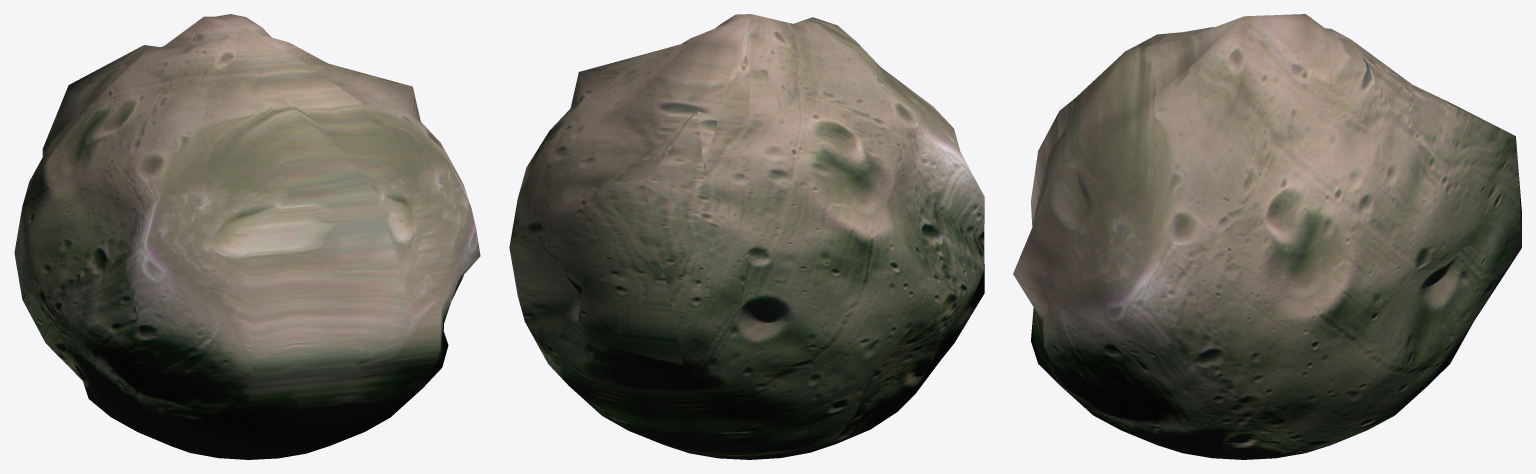
Rendered from asteroid.gltf.
The picture shows the model from 3 angles, left to right: view 1: azimuth 30°, elevation 25°; view 2: azimuth 150°, elevation 25°; view 3: azimuth 270°, elevation 25°; orthographic projection. The views are drawn at different scales.
Visible parts, largest first — view 1: Deimos; view 2: Deimos; view 3: Deimos.
Boxes of the visible parts, x1=… form: Deimos: x1=14, y1=14, x2=480, y2=459; Deimos: x1=509, y1=14, x2=984, y2=459; Deimos: x1=1013, y1=14, x2=1521, y2=459.
Bounding box in the file's own units: 2.07 × 2 × 2.21.
1 material, 1 textured.
